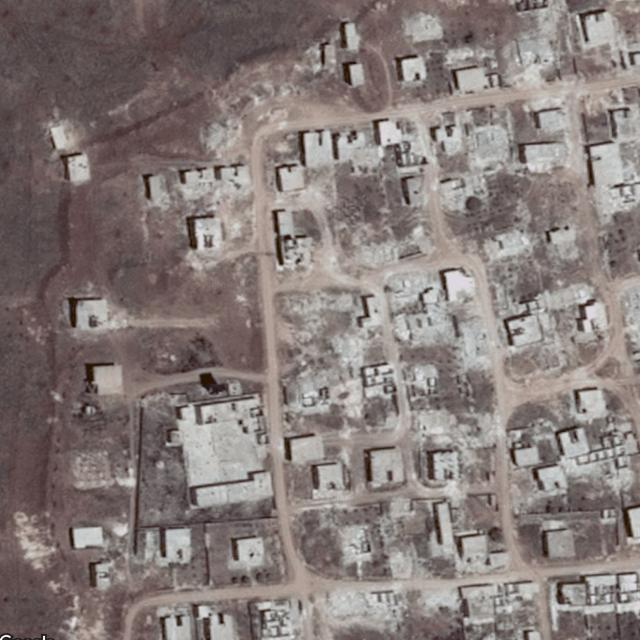damaged_building: (280, 326, 388, 426), (388, 269, 491, 370), (311, 588, 465, 634), (438, 126, 511, 209), (416, 410, 493, 481), (481, 224, 534, 266), (510, 38, 552, 86), (333, 525, 376, 562), (454, 529, 490, 571)
